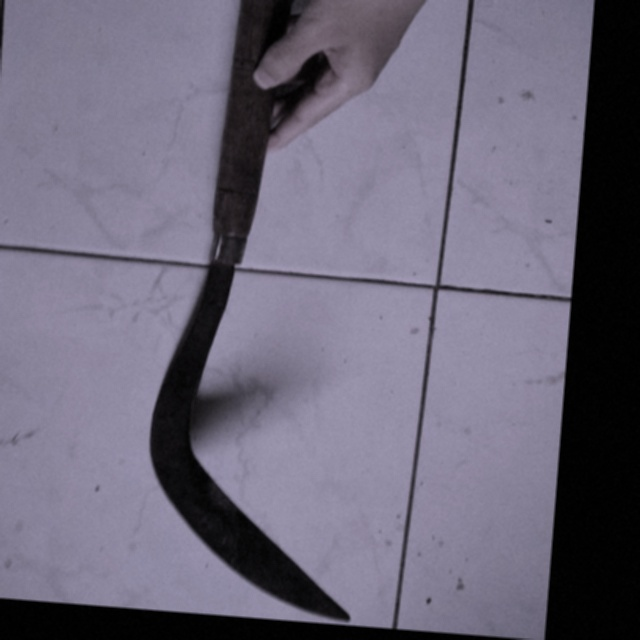Sharp-Object: (112, 0, 427, 627)
